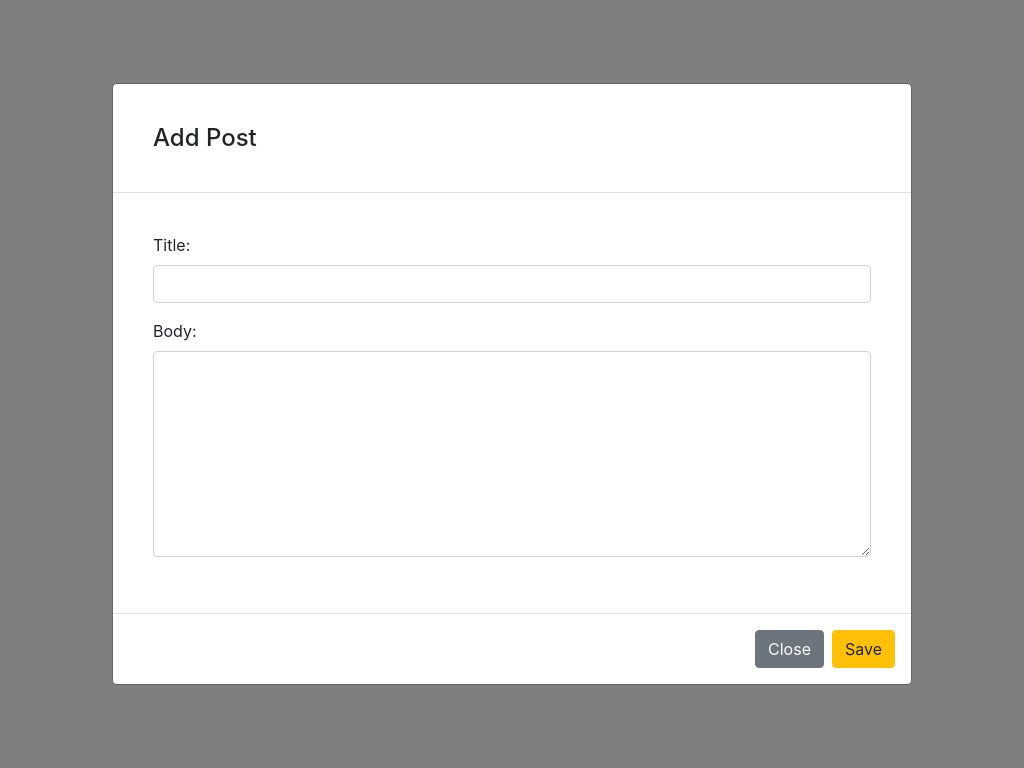
Test case: ModalForm component › on User page › display error messages after submit a form
Type "Input" into the field labelled "Title:" at [512, 284], box [153,265,871,303]
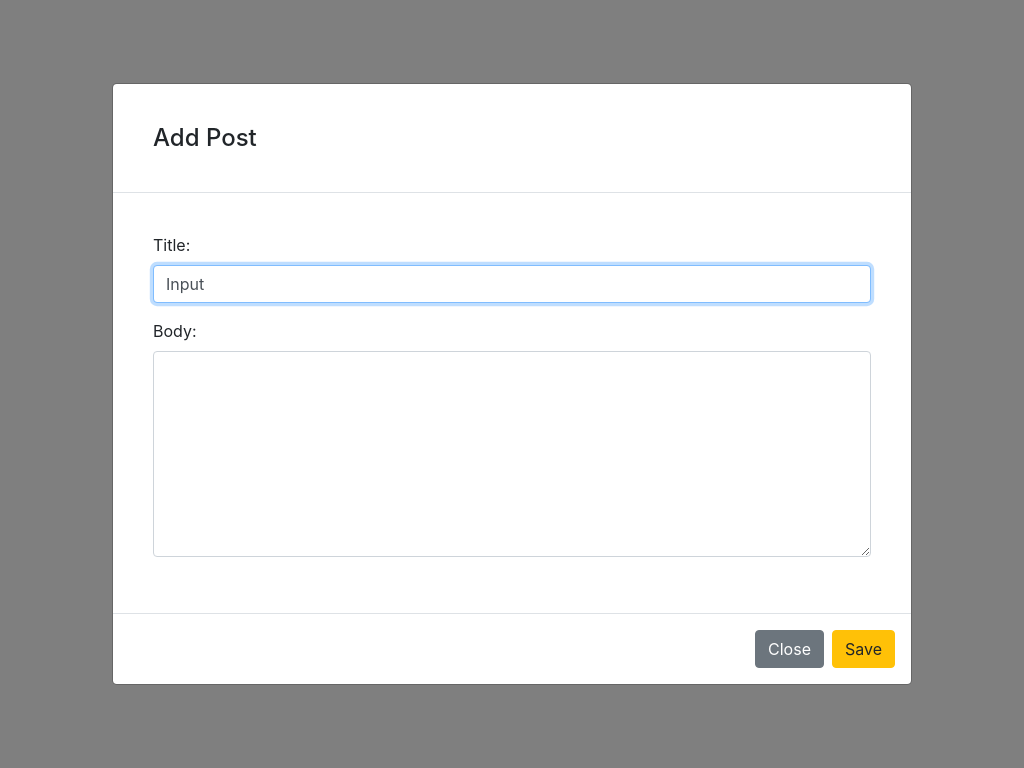
Click the button "Save" at [864, 649], box [832,630,895,668]
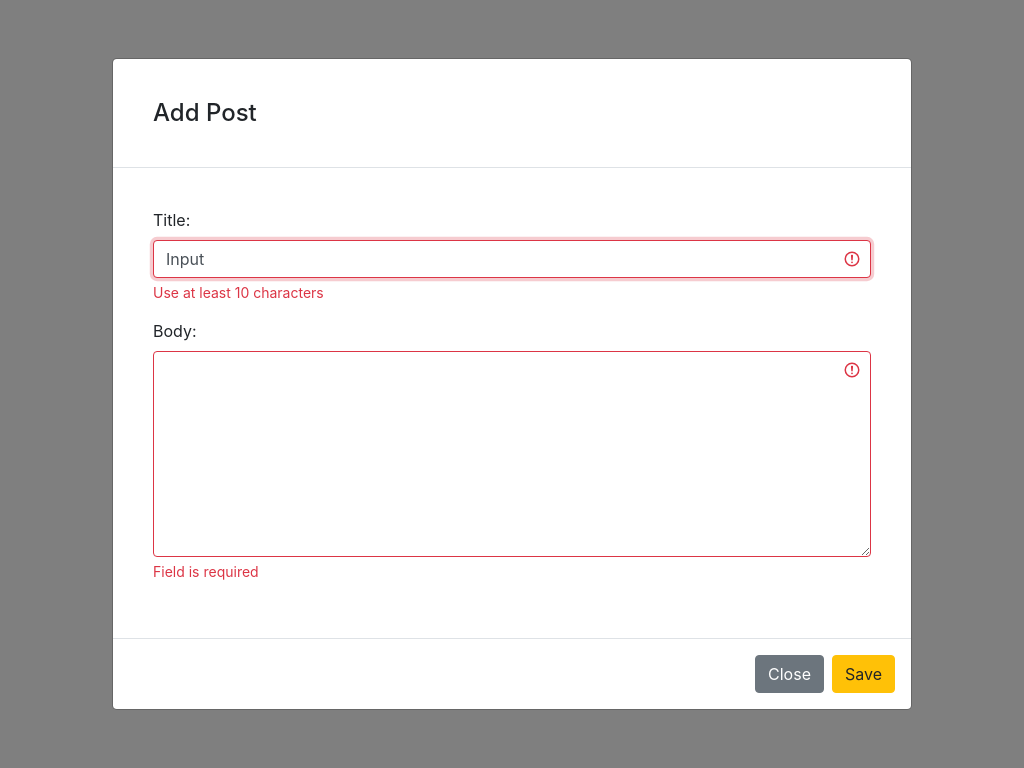
Expected: the text "Field is required" is shown, [153,563,259,580]
Expected: the text "Use at least 10 characters" is shown, [153,284,324,301]
